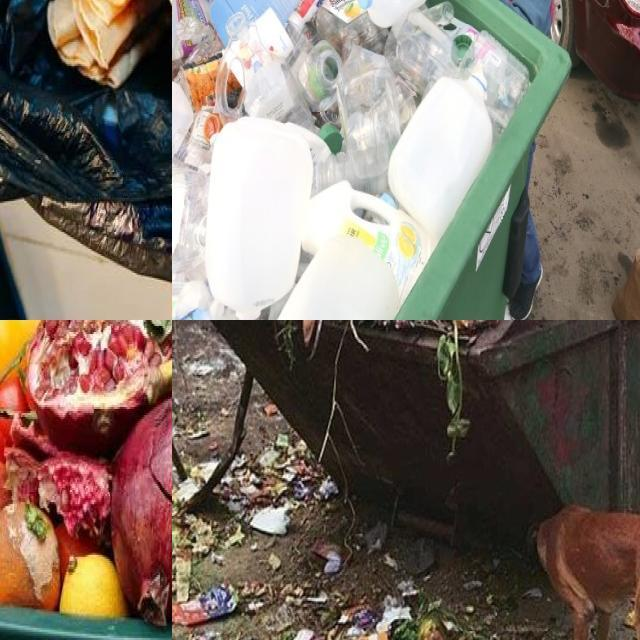Garbage: (172, 0, 536, 320), (0, 320, 172, 634)
Plastic_Container: (389, 80, 492, 243), (306, 182, 430, 301), (278, 236, 398, 320), (458, 30, 529, 127), (385, 10, 457, 95), (172, 0, 209, 65), (255, 8, 294, 59)
Plastic_bottle: (215, 14, 316, 131), (337, 44, 401, 193), (172, 164, 209, 274), (316, 0, 388, 56), (313, 152, 389, 195), (298, 40, 342, 107), (172, 280, 211, 320)
